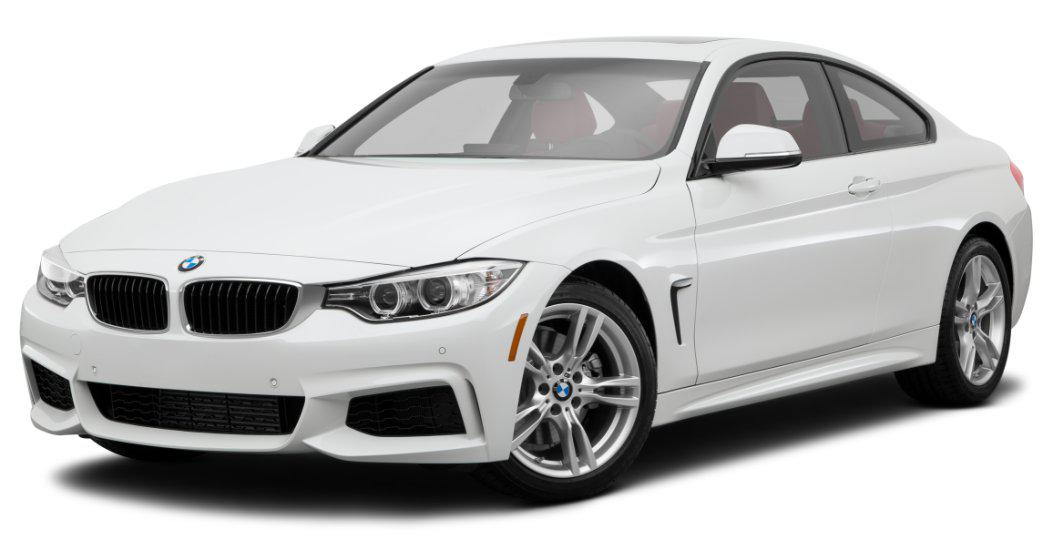bmw: (4, 20, 1045, 509)
